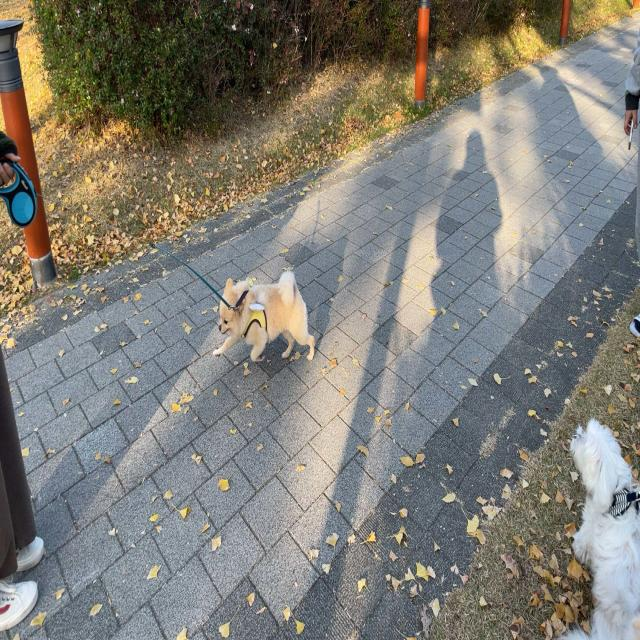Dog: (553, 416, 640, 640), (212, 271, 316, 365)
